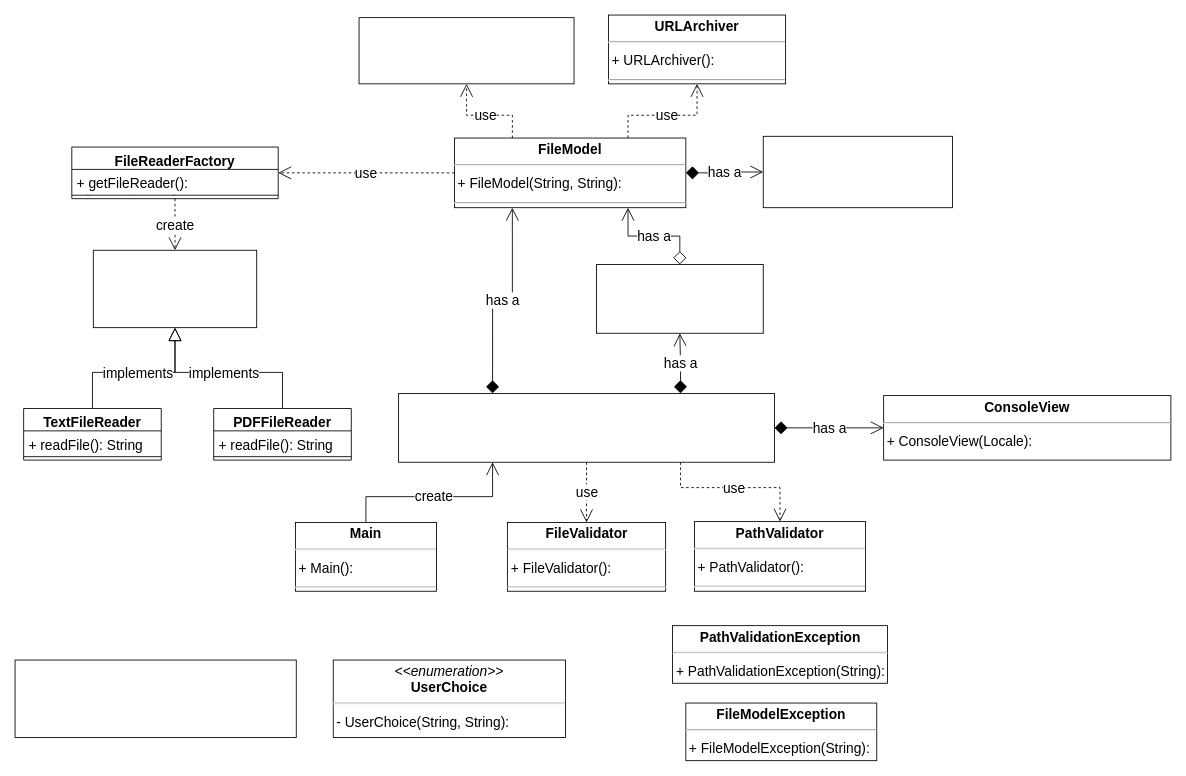
The diagram is 1186 pixels wide and 776 high, and some of its shapes have lost their labels. Here are the shapes that lost their labels. From the top down, the centre of each, then its label:
pixel 466 50: URLExtractor + URLExtractor()
pixel 857 171: URLPair + URLPair(String, int):
pixel 174 288: <<Interface>> FileReaderInterface + readFile(): String
pixel 679 298: FolderModel + FolderModel(String):
pixel 586 427: CLIController + CLIController():
pixel 155 698: I18n + I18n():
